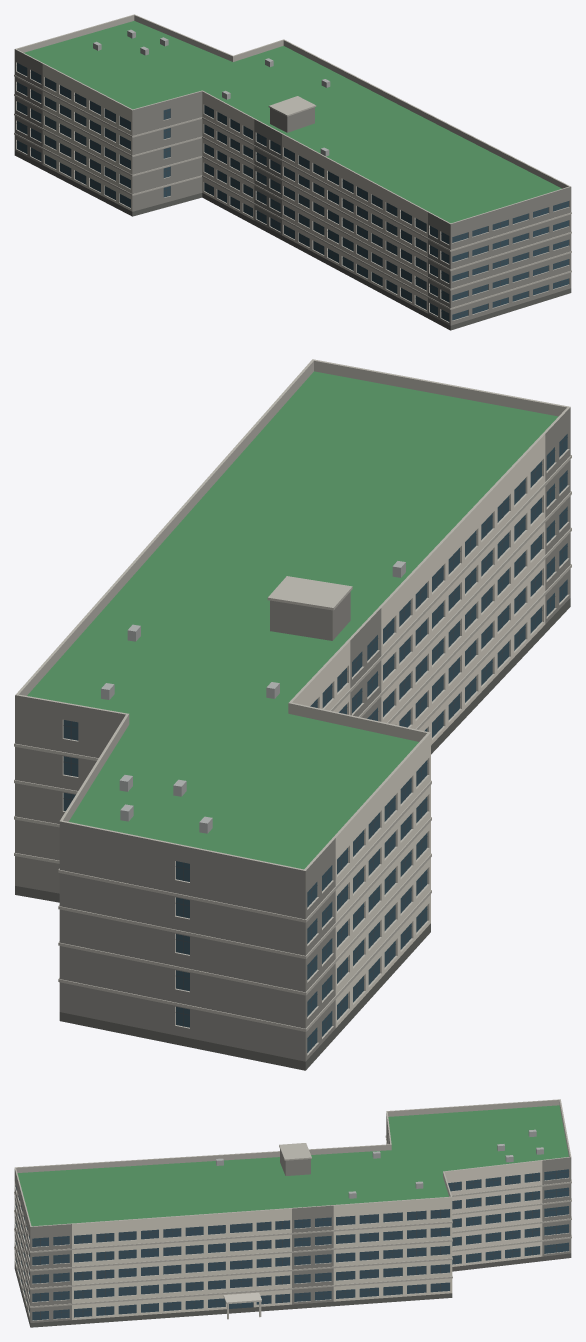
The picture shows the model from 3 angles, top to bottom: view 1: azimuth 30°, elevation 25°; view 2: azimuth 150°, elevation 25°; view 3: azimuth 270°, elevation 25°; orthographic projection. The views are drawn at different scales.
Visible parts, largest first — view 1: wing1__roof, wing1__brick, wing1__wall-plaster, wing1__glass, wing1__trim-concrete, wing1__base-stone, wing1__frame, wing1__equipment; view 2: wing1__roof, wing1__brick, wing1__trim-concrete, wing1__wall-plaster, wing1__glass, wing1__base-stone, wing1__frame, wing1__equipment; view 3: wing1__roof, wing1__wall-plaster, wing1__glass, wing1__trim-concrete, wing1__brick, wing1__frame, wing1__base-stone, wing1__equipment, wing1__canopy-concrete.
Part boxes in pixels (x1=…): wing1__roof: x1=24, y1=21, x2=561, y2=223; wing1__brick: x1=14, y1=49, x2=571, y2=325; wing1__wall-plaster: x1=42, y1=64, x2=427, y2=313; wing1__glass: x1=17, y1=63, x2=568, y2=321; wing1__trim-concrete: x1=14, y1=14, x2=571, y2=322; wing1__base-stone: x1=14, y1=151, x2=571, y2=330; wing1__frame: x1=16, y1=65, x2=568, y2=319; wing1__equipment: x1=93, y1=29, x2=330, y2=156; wing1__roof: x1=27, y1=371, x2=558, y2=869; wing1__brick: x1=15, y1=407, x2=570, y2=1061; wing1__trim-concrete: x1=14, y1=359, x2=571, y2=1055; wing1__wall-plaster: x1=292, y1=434, x2=545, y2=1027; wing1__glass: x1=63, y1=434, x2=567, y2=1052; wing1__base-stone: x1=15, y1=598, x2=570, y2=1070; wing1__frame: x1=63, y1=437, x2=567, y2=1048; wing1__equipment: x1=101, y1=561, x2=405, y2=833; wing1__roof: x1=17, y1=1105, x2=568, y2=1226; wing1__wall-plaster: x1=72, y1=1160, x2=542, y2=1319; wing1__glass: x1=15, y1=1169, x2=568, y2=1320; wing1__trim-concrete: x1=14, y1=1099, x2=571, y2=1320; wing1__brick: x1=14, y1=1113, x2=571, y2=1322; wing1__frame: x1=32, y1=1170, x2=568, y2=1319; wing1__base-stone: x1=14, y1=1253, x2=571, y2=1327; wing1__equipment: x1=216, y1=1129, x2=543, y2=1198; wing1__canopy-concrete: x1=223, y1=1292, x2=261, y2=1319.
Size of the model in its own units: 53.92 by 22.05 by 99.2.
